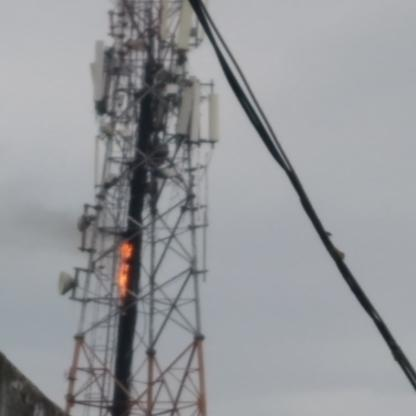Fire: (113, 240, 136, 301)
